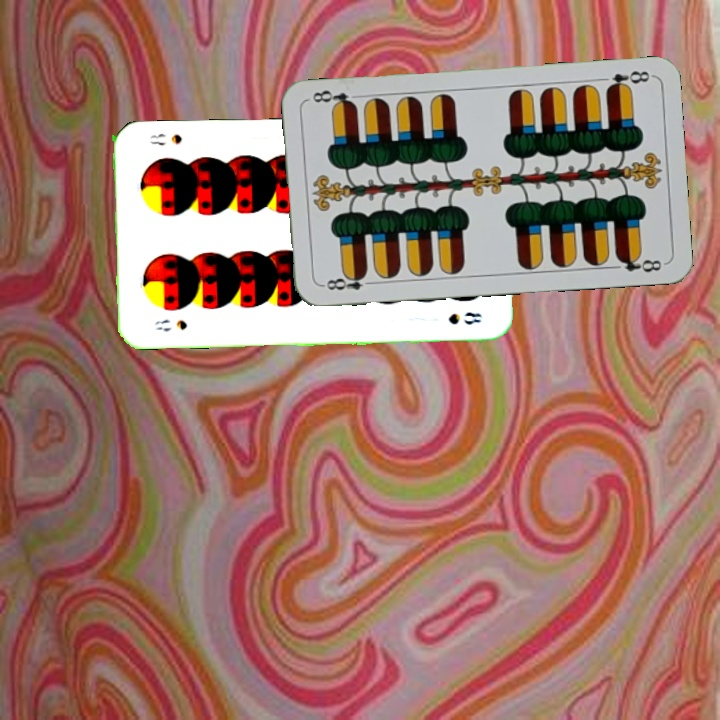E8: (318, 269, 377, 293), (602, 66, 654, 93)
S8: (150, 315, 189, 334)
